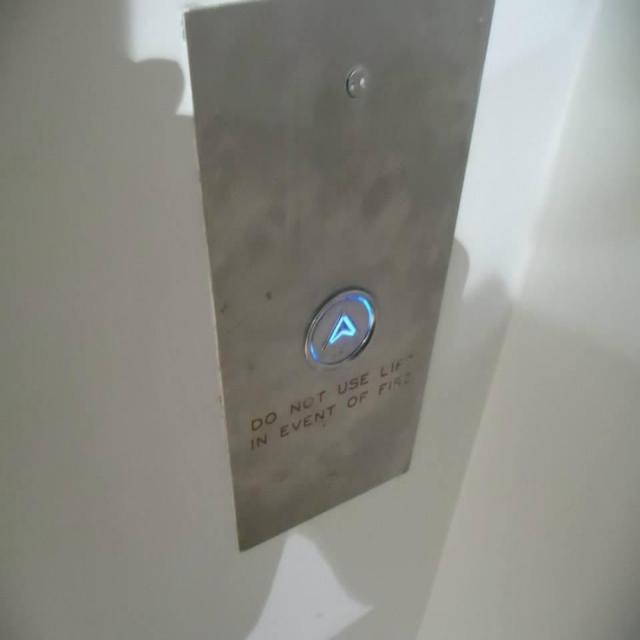up: (302, 285, 377, 369)
